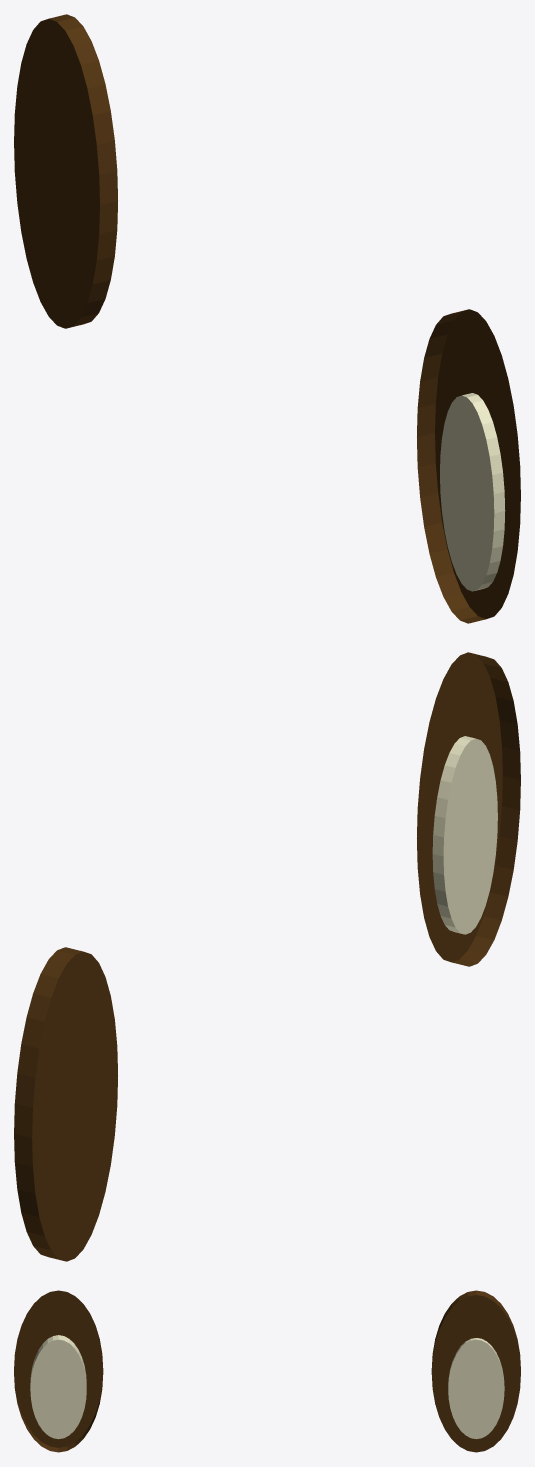
Rendered from ZachEyes.glb.
The picture shows the model from 3 angles, top to bottom: view 1: azimuth 30°, elevation 25°; view 2: azimuth 150°, elevation 25°; view 3: azimuth 270°, elevation 25°; orthographic projection. The views are drawn at different scales.
Visible parts, largest first — view 1: ZachEyes; view 2: ZachEyes; view 3: ZachEyes.
Part boxes in pixels (box(x1,y1,x2,y2)): ZachEyes: box(14, 14, 520, 623); ZachEyes: box(14, 652, 520, 1261); ZachEyes: box(14, 1290, 520, 1452).
Bounding box in the file's own units: 0.0843 × 0.9641 × 2.81.
